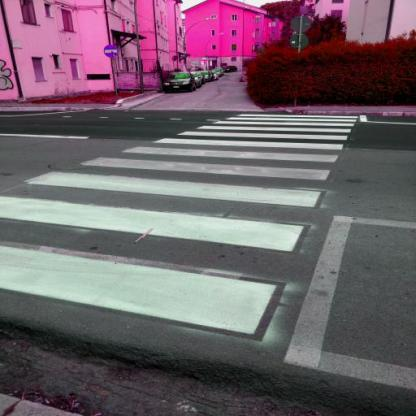crosswalk: (19, 155, 350, 212)
